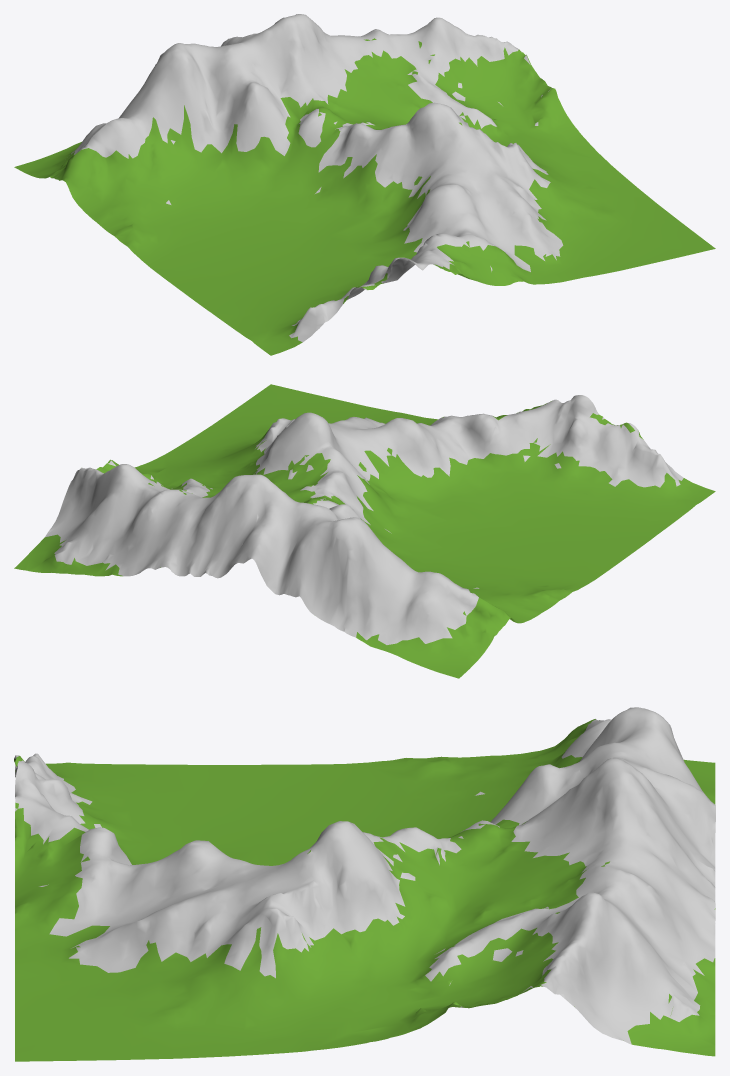
The model's file is terrenoMontaña.fbx.
3 renders of one model, top to bottom at view 1: azimuth 30°, elevation 25°; view 2: azimuth 150°, elevation 25°; view 3: azimuth 270°, elevation 25°, orthographic. The views are drawn at different scales.
Visible parts, largest first — view 1: Plano; view 2: Plano; view 3: Plano.
Part boxes in pixels (x1=…): Plano: x1=14, y1=14, x2=715, y2=355; Plano: x1=14, y1=384, x2=715, y2=678; Plano: x1=14, y1=707, x2=715, y2=1061.
Bounding box in the file's own units: 469 × 121 × 470.
